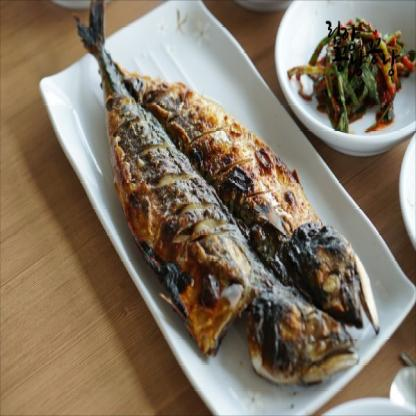Peixe: (58, 0, 380, 384)
